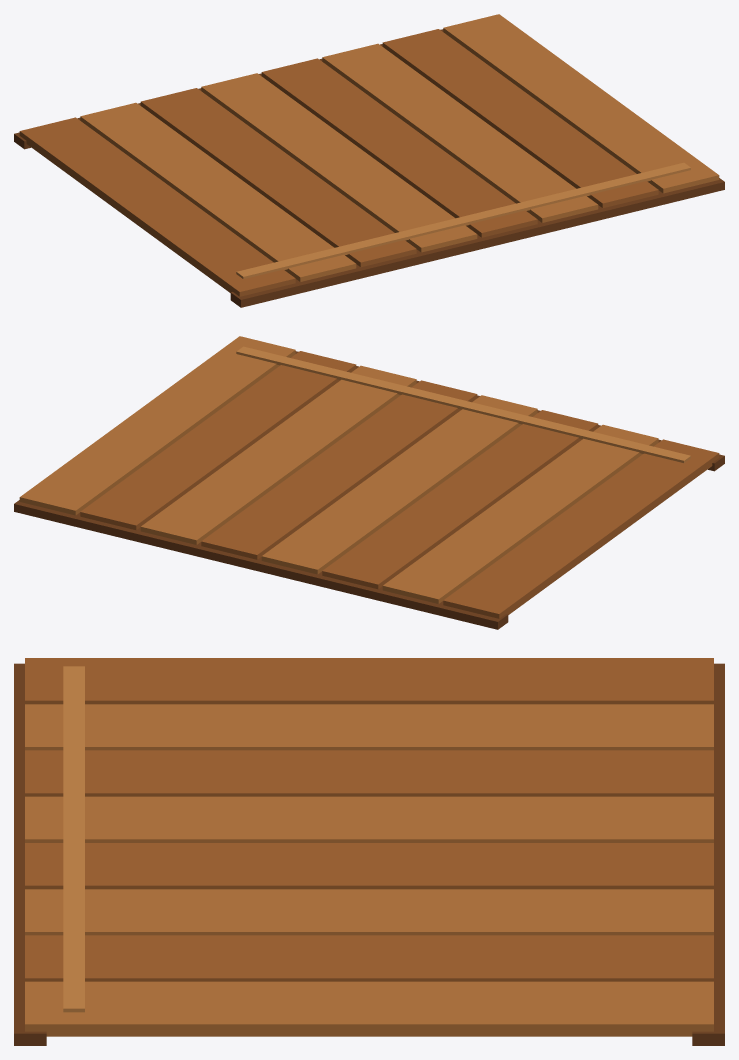
File: deck.glb
3 renders of one model, top to bottom at view 1: azimuth 30°, elevation 25°; view 2: azimuth 150°, elevation 25°; view 3: azimuth 270°, elevation 25°, orthographic. The views are drawn at different scales.
Visible parts, largest first — view 1: deck; view 2: deck; view 3: deck.
Part boxes in pixels (bbox=[...]): deck: bbox=[14, 14, 724, 307]; deck: bbox=[14, 336, 724, 629]; deck: bbox=[14, 658, 724, 1045].
Bounding box in the file's own units: 3.2 × 0.095 × 2.6.
